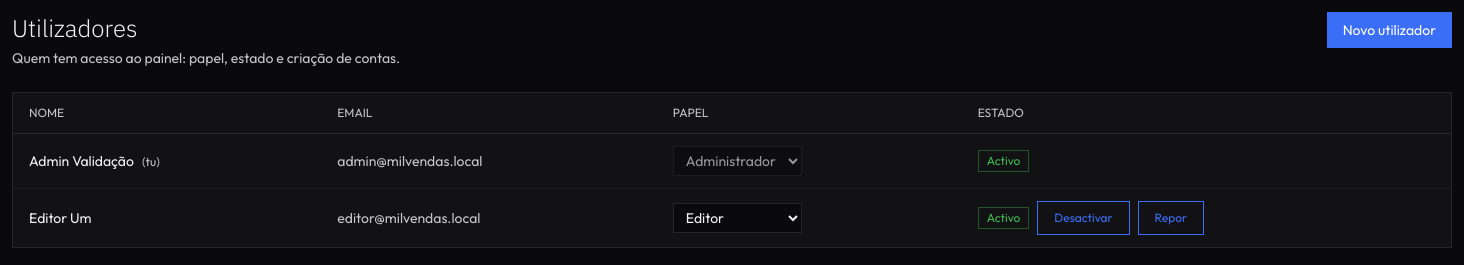
Scenario: UsersPage › desactivar envia {active:false} e a linha passa a Inactivo
This screenshot has width=1464, height=265.
Expected: the text "Editor Um" is shown, [13, 188, 321, 247]
Click the button "Desactivar" at [1084, 218], box [1037, 201, 1130, 235]
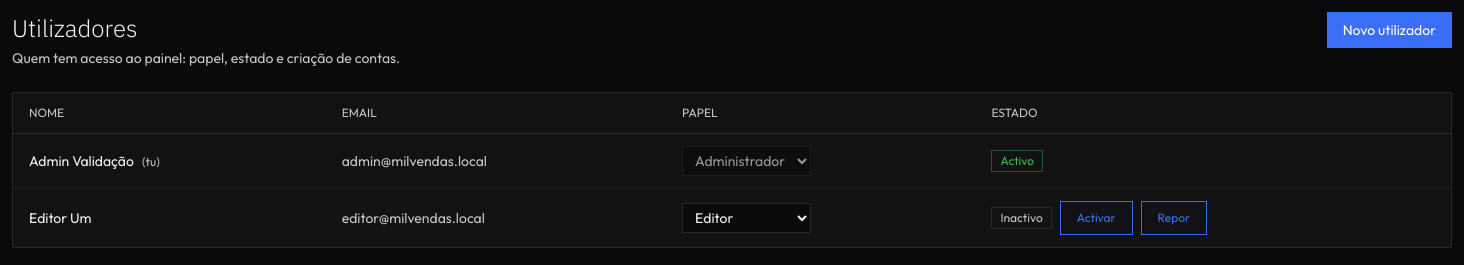
Now the text "Inactivo" is shown, box [1000, 210, 1043, 226]
